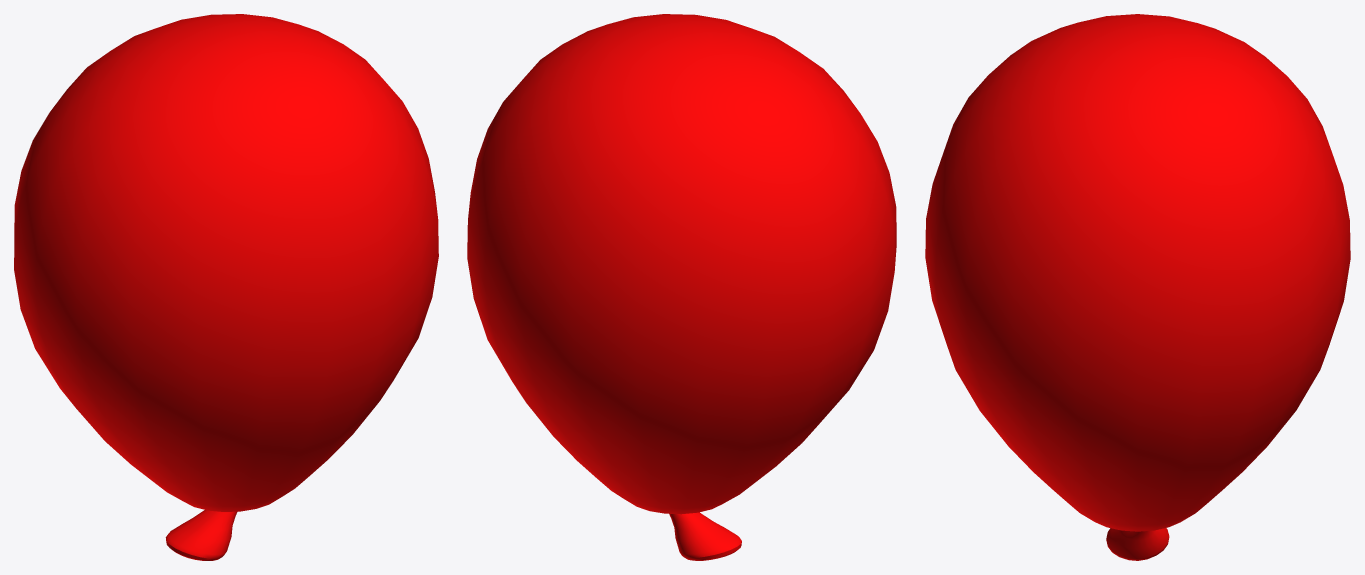
File: balloon.fbx
3 views of the same model, side by side, from view 1: azimuth 30°, elevation 25°; view 2: azimuth 150°, elevation 25°; view 3: azimuth 270°, elevation 25° (orthographic). The views are drawn at different scales.
Visible parts, largest first — view 1: pSphere1; view 2: pSphere1; view 3: pSphere1.
Boxes of the visible parts, x1=… form: pSphere1: x1=14, y1=14, x2=438, y2=560; pSphere1: x1=467, y1=14, x2=896, y2=560; pSphere1: x1=925, y1=14, x2=1350, y2=560.
Size of the model in its own units: 5.05 by 6.53 by 4.78.
